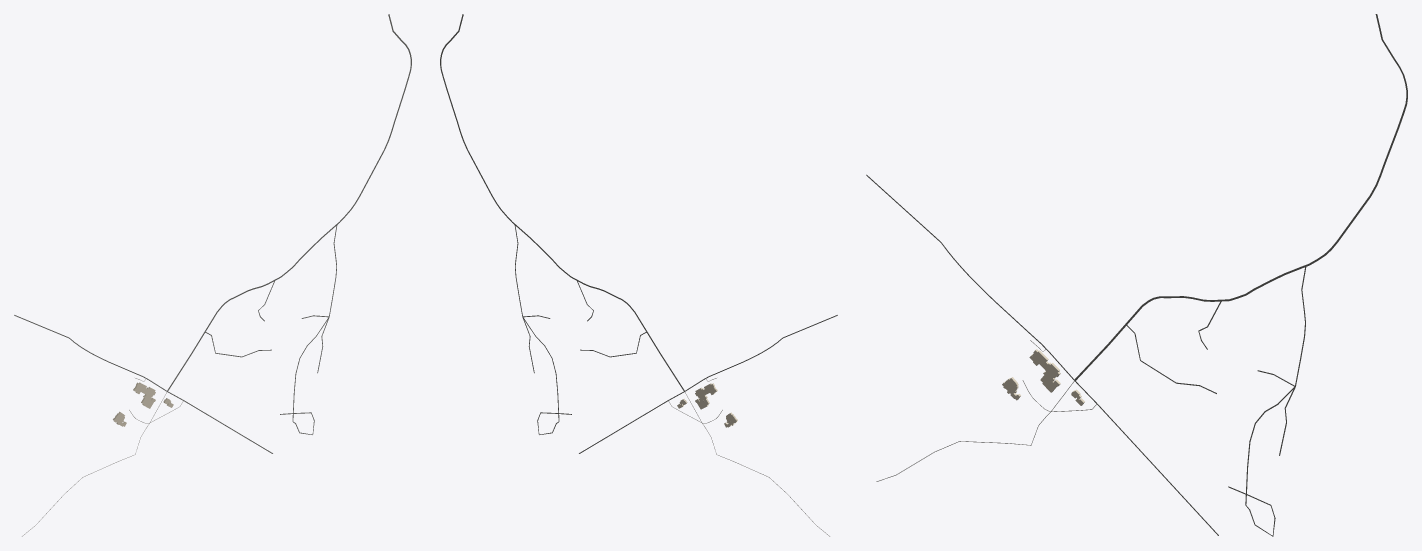
The model's file is historic-palestine-08_18_3496_3125.glb.
3 renders of one model, left to right at view 1: azimuth 30°, elevation 25°; view 2: azimuth 150°, elevation 25°; view 3: azimuth 330°, elevation 25°, orthographic. The views are drawn at different scales.
Parts seen in each view (by area): view 1: Road; view 2: Road; view 3: Road, Road .001, Road .006.
Part boxes in pixels (<box>): Road: <box>167,14,411,390</box>; Road: <box>440,14,684,391</box>; Road: <box>1074,14,1407,380</box>; Road .001: <box>866,174,1218,535</box>; Road .006: <box>1228,266,1306,536</box>.
Size of the model in its own units: 1579 by 1643 by 8.7.
